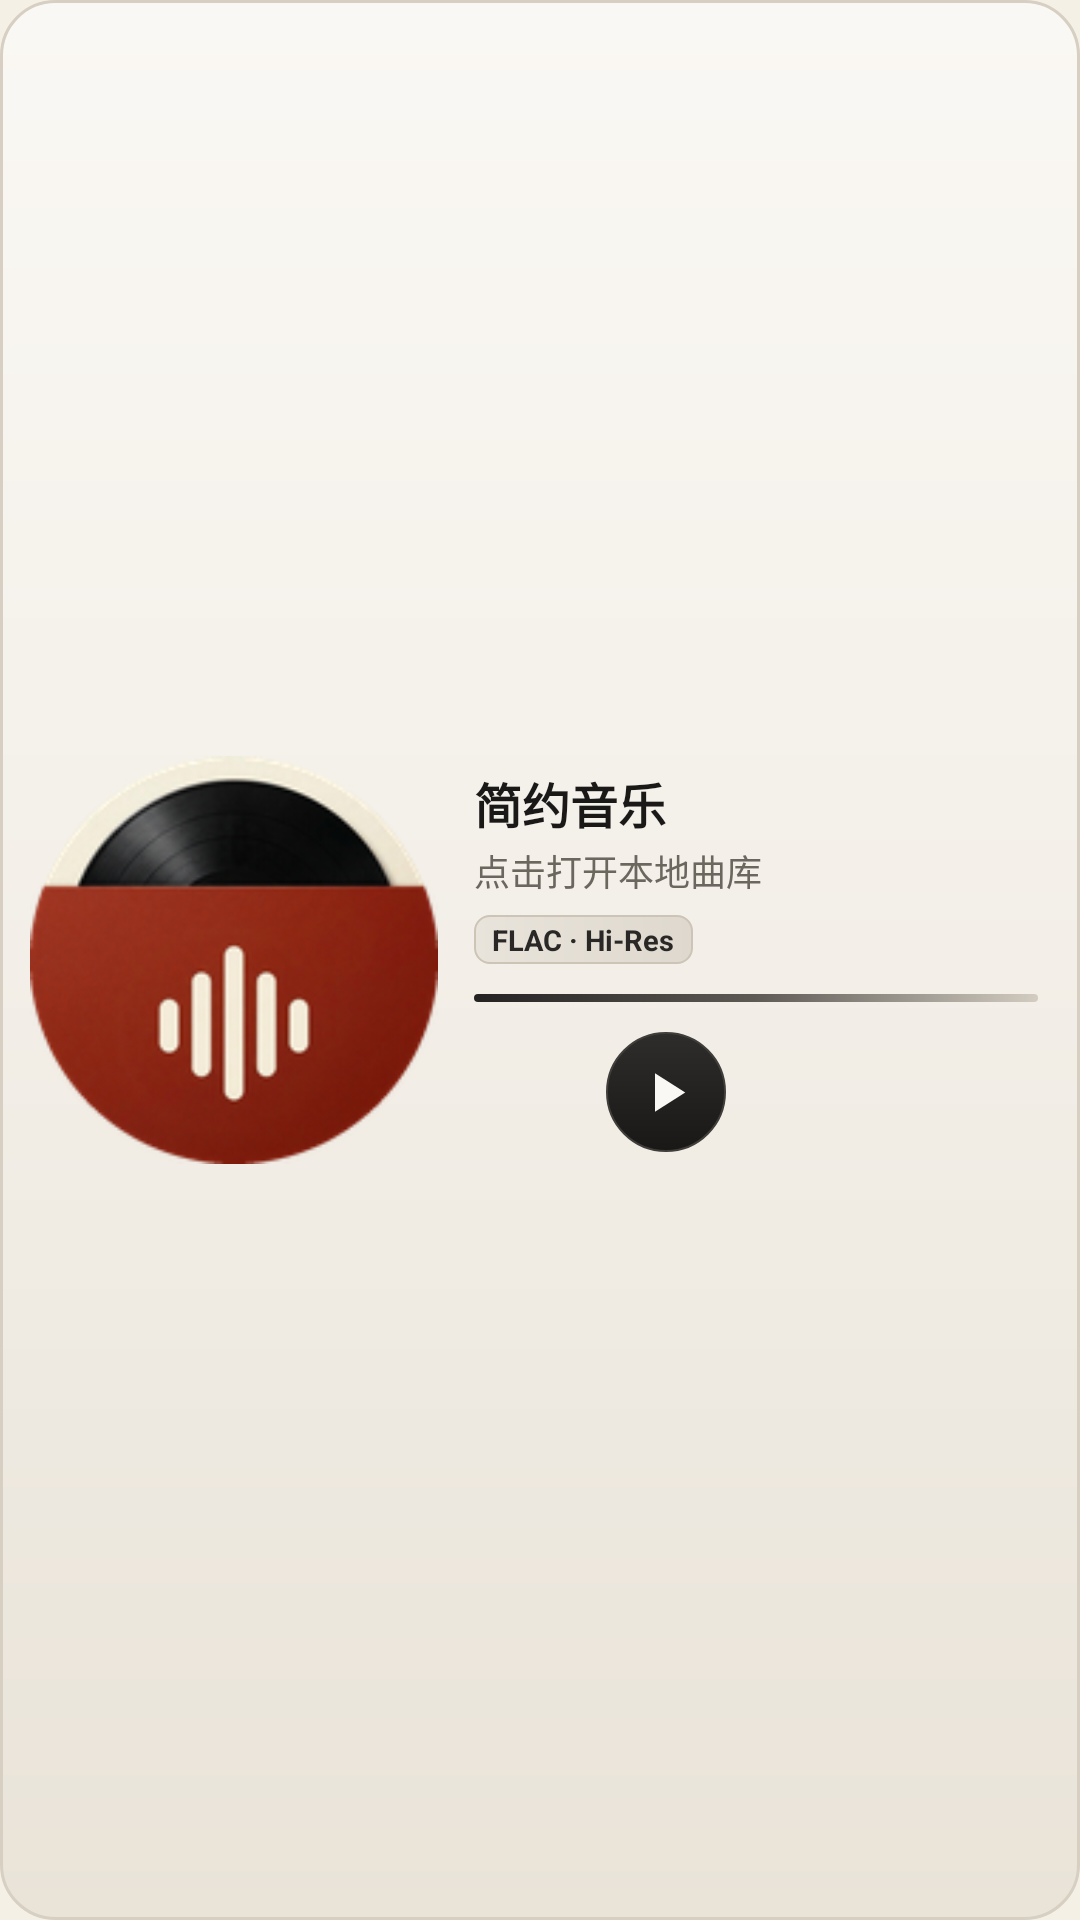

Screen size 1080px x 1920px. Icon name, then its box in pixels as (x1, y1, x2, y2):
播放或暂停: (606, 1032, 726, 1152)
